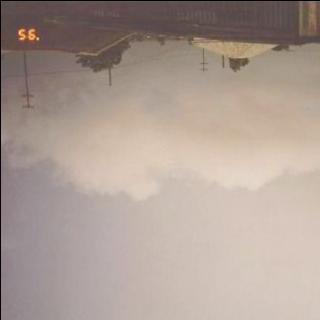Nimbostratus: (0, 36, 320, 320)
